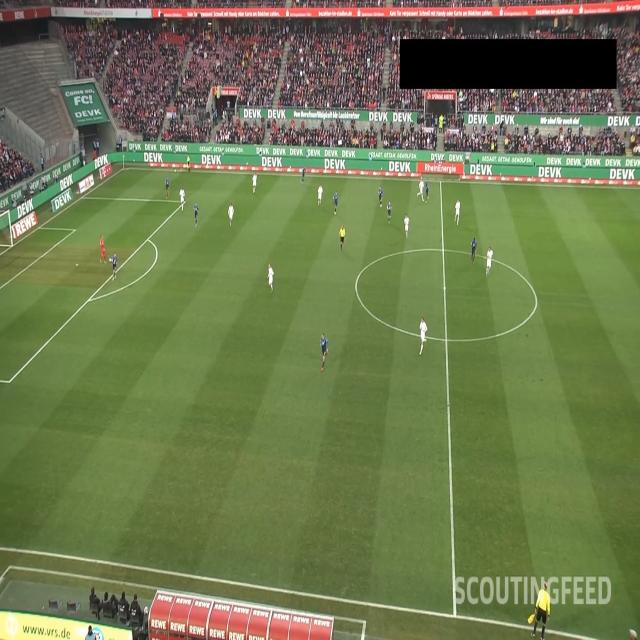ball: (109, 256, 112, 263)
